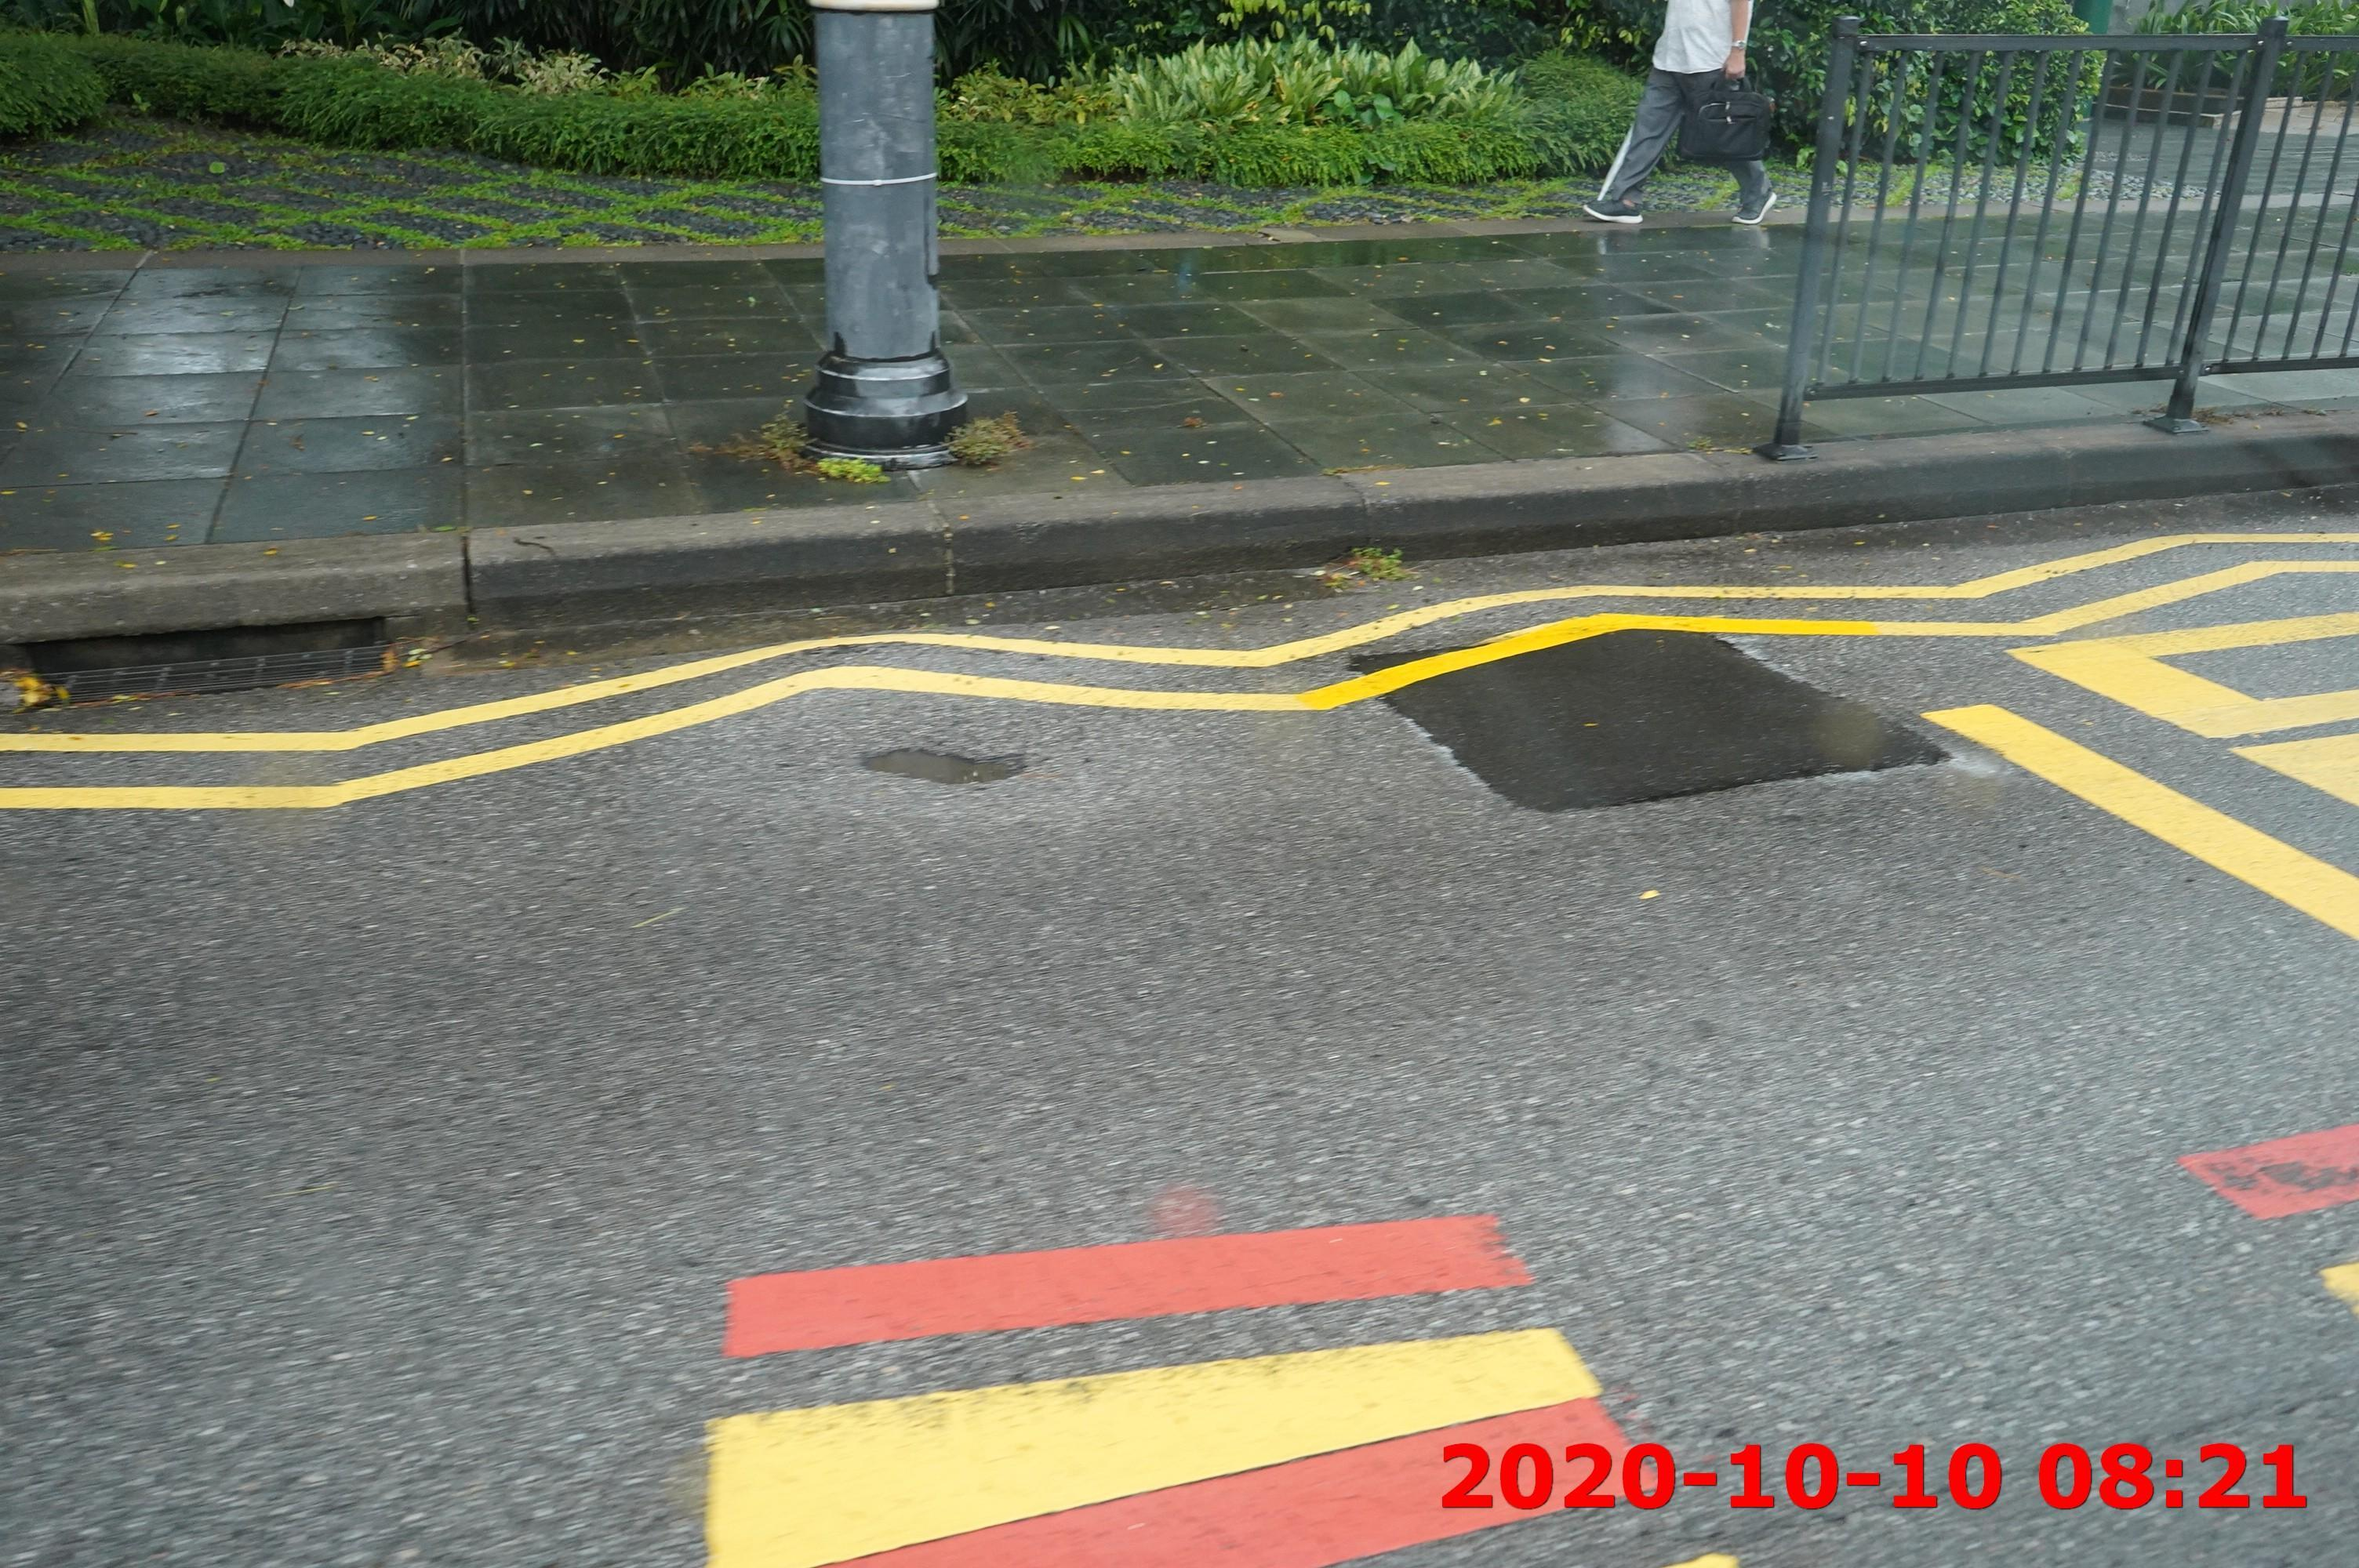peeling off premix: (854, 728, 1038, 795)
